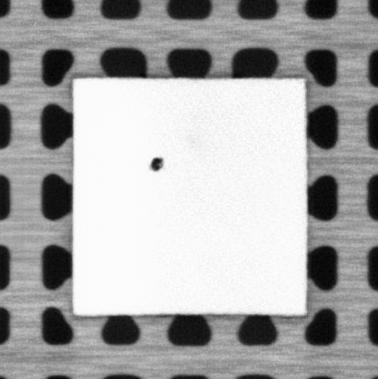DIE_INK: (149, 154, 165, 172)
